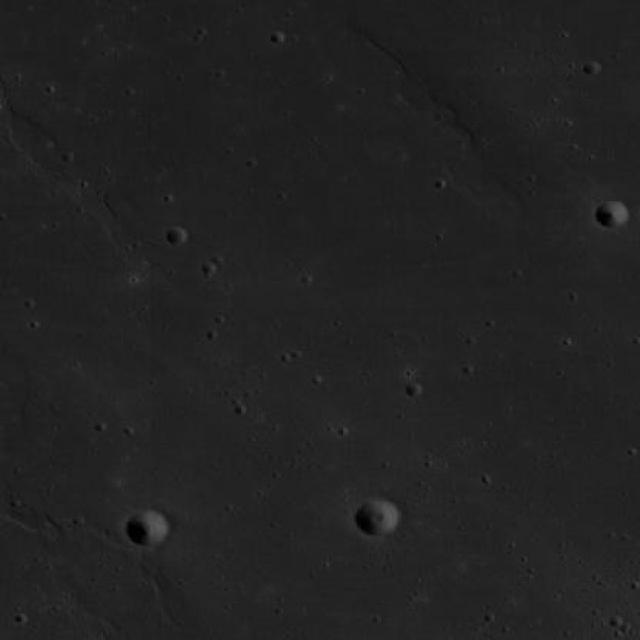crater: (354, 498, 400, 536), (126, 512, 169, 548), (596, 201, 630, 230), (167, 228, 187, 246)
